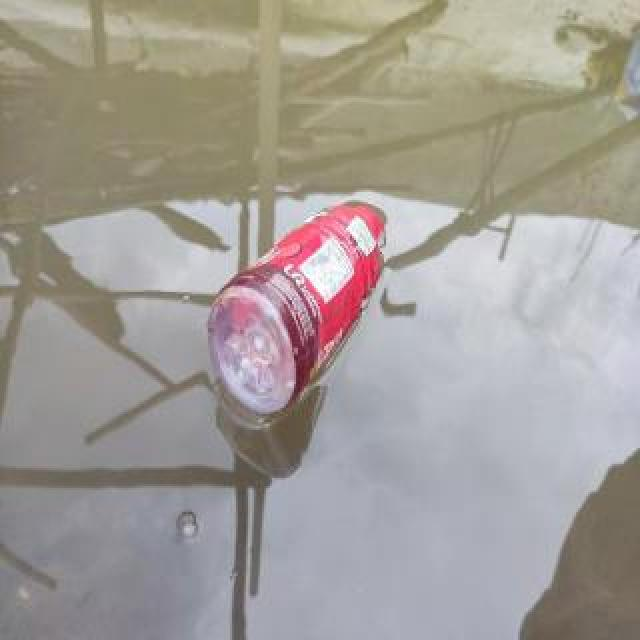Bottle: (184, 179, 416, 419)
